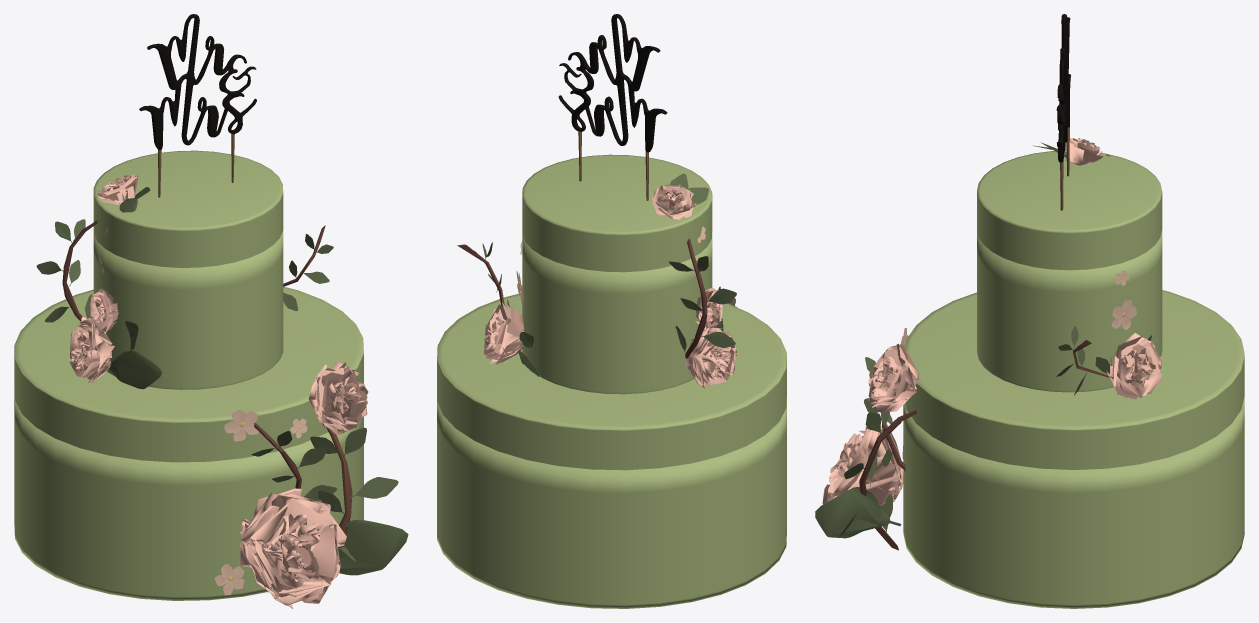
Rendered from 2-tier-pistage-roses-mrms.glb.
3 renders of one model, left to right at view 1: azimuth 30°, elevation 25°; view 2: azimuth 150°, elevation 25°; view 3: azimuth 270°, elevation 25°, orthographic.
Visible parts, largest first — view 1: Cylinder.023, Cylinder.013, grid.025, mrms, grid.024, Plane.049, Plane.059, grid.026, Plane.056, Plane.058, Plane.052, Plane.045 (+4 smaller); view 2: Cylinder.023, Cylinder.013, mrms, grid.026, Plane.056, grid.028, grid.014, grid.027, Plane.045; view 3: Cylinder.023, Cylinder.013, grid.025, grid.028, Plane.049, grid.024, mrms, Plane.059, Plane.045, grid.014, Plane.058.
Part boxes in pixels (left/top/right/bottom): Cylinder.023: left=14, top=287, right=363, bottom=600; Cylinder.013: left=93, top=150, right=283, bottom=389; grid.025: left=239, top=488, right=346, bottom=608; mrms: left=139, top=14, right=256, bottom=197; grid.024: left=308, top=361, right=368, bottom=435; Plane.049: left=338, top=519, right=408, bottom=575; Plane.059: left=310, top=427, right=398, bottom=561; grid.026: left=69, top=316, right=114, bottom=382; Plane.056: left=36, top=219, right=97, bottom=322; Plane.058: left=251, top=423, right=336, bottom=500; Plane.052: left=109, top=351, right=161, bottom=389; Plane.045: left=283, top=225, right=333, bottom=310; Cylinder.023: left=437, top=293, right=786, bottom=608; Cylinder.013: left=522, top=154, right=712, bottom=394; mrms: left=558, top=14, right=667, bottom=200; grid.026: left=685, top=327, right=737, bottom=388; Plane.056: left=669, top=238, right=736, bottom=358; grid.028: left=484, top=302, right=524, bottom=364; grid.014: left=651, top=184, right=696, bottom=220; grid.027: left=695, top=288, right=722, bottom=332; Plane.045: left=457, top=242, right=509, bottom=307; Cylinder.023: left=903, top=290, right=1244, bottom=608; Cylinder.013: left=977, top=150, right=1162, bottom=392; grid.025: left=822, top=419, right=903, bottom=505; grid.028: left=1106, top=333, right=1161, bottom=399; Plane.049: left=815, top=487, right=901, bottom=538; grid.024: left=868, top=343, right=919, bottom=412; mrms: left=1056, top=14, right=1070, bottom=210; Plane.059: left=840, top=410, right=917, bottom=550; Plane.045: left=1056, top=326, right=1113, bottom=395; grid.014: left=1065, top=138, right=1103, bottom=165; Plane.058: left=864, top=357, right=905, bottom=471.
Size of the model in its own units: 3.4 by 5.61 by 4.11.
